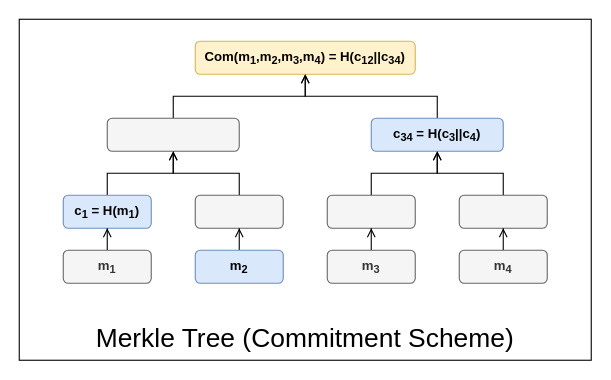
This 611x380 diagram has some shape labels left out. Here are the shapes that lost their labels. From the top down, the box of each, then its label:
(106, 117, 239, 151): c 12 = H(c 1 ||c 2 )
(194, 194, 283, 228): c 2 = H(m 2 )
(326, 194, 415, 228): c 3 = H(m 3 )
(458, 194, 547, 228): c 4 = H(m 4 )
